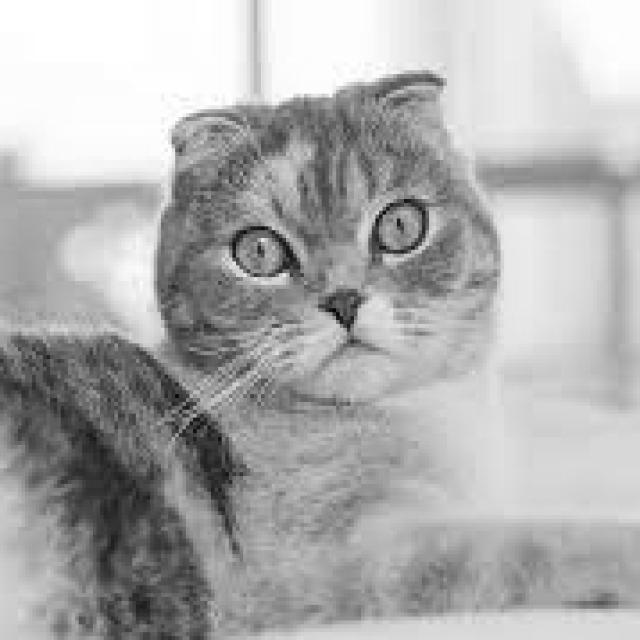scootish: (143, 55, 520, 405)
